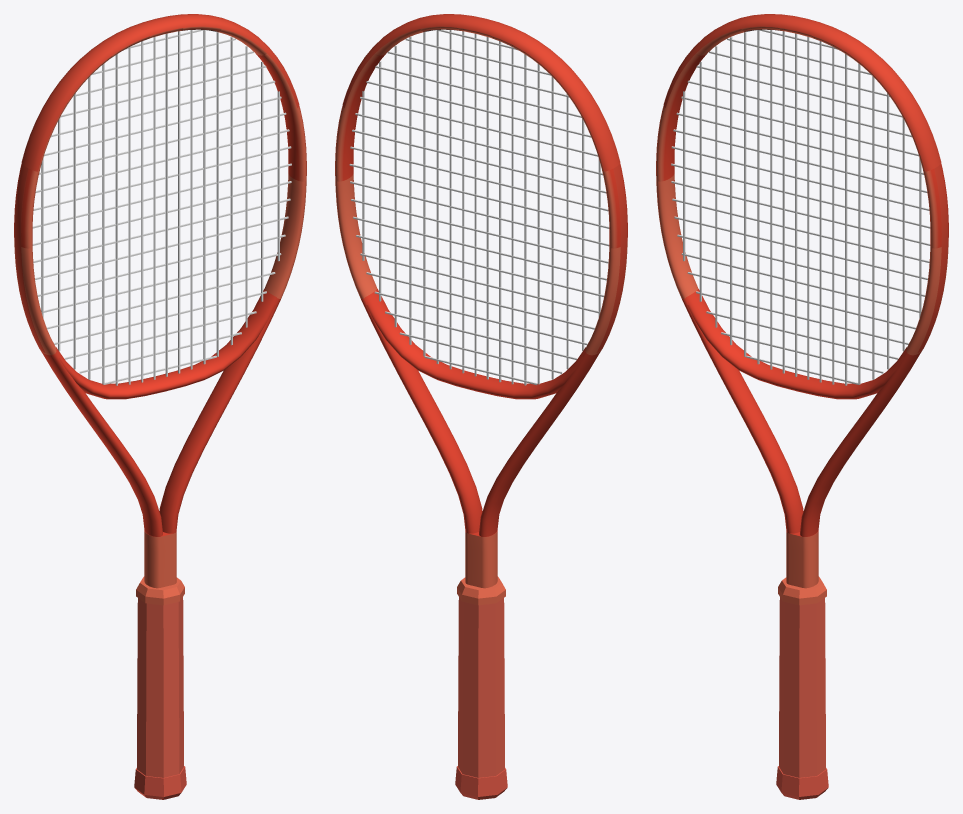
File: head-radical-tour-2025.glb
3 views of the same model, side by side, from view 1: azimuth 30°, elevation 25°; view 2: azimuth 150°, elevation 25°; view 3: azimuth 330°, elevation 25° (orthographic).
Visible parts, largest first — view 1: frame, strings_mains, strings_crosses, grip, bumper, grommets, butt_cap, collar; view 2: frame, strings_mains, strings_crosses, grip, bumper, grommets, butt_cap, collar; view 3: frame, strings_mains, strings_crosses, grip, bumper, grommets, butt_cap, collar.
Part boxes in pixels (x1,y1,x2,y2): frame: (14, 26, 306, 588); strings_mains: (41, 30, 279, 385); strings_crosses: (32, 29, 291, 384); grip: (137, 597, 183, 777); bumper: (21, 14, 299, 171); grommets: (14, 164, 45, 352); butt_cap: (134, 766, 186, 799); collar: (136, 576, 184, 605); frame: (335, 26, 627, 588); strings_mains: (362, 30, 600, 385); strings_crosses: (349, 29, 609, 385); grip: (458, 597, 504, 777); bumper: (342, 14, 620, 171); grommets: (596, 164, 627, 352); butt_cap: (455, 766, 507, 799); collar: (457, 576, 505, 605); frame: (656, 26, 948, 588); strings_mains: (683, 30, 921, 385); strings_crosses: (671, 29, 930, 384); grip: (779, 597, 825, 777); bumper: (663, 14, 941, 171); grommets: (917, 164, 948, 352); butt_cap: (776, 766, 828, 799); collar: (778, 576, 826, 605).
Bounding box in the file's own units: 0.2672 × 0.6861 × 0.0396.
